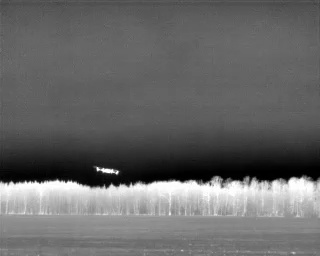DRONE: (90, 162, 123, 179)
